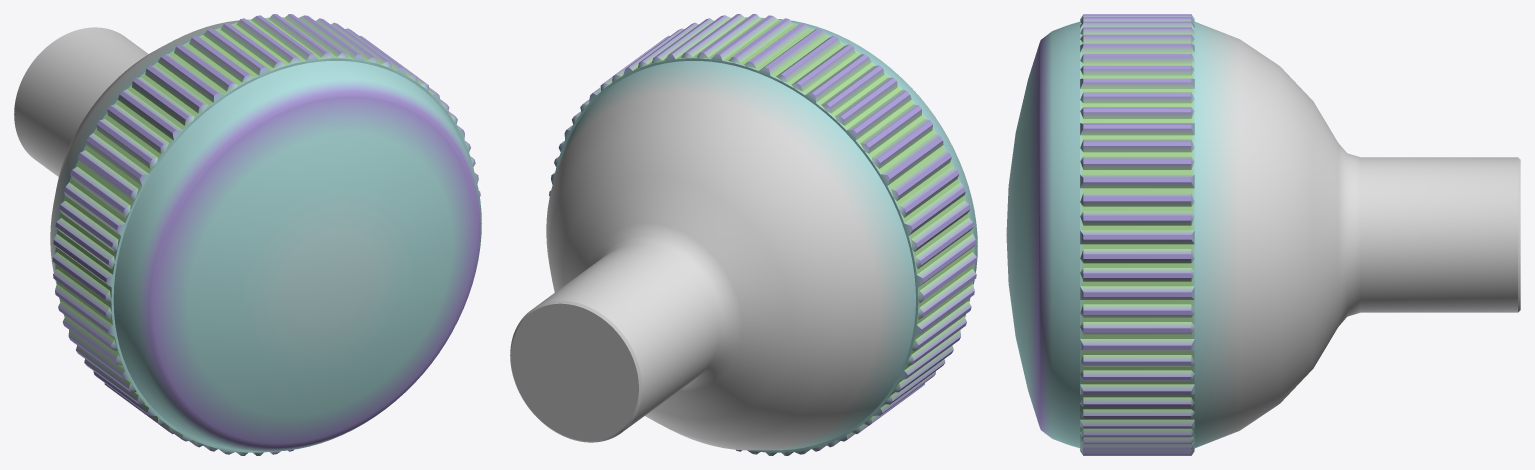
The model's file is Kit_Lock_Knob.fbx.
3 views of the same model, side by side, from view 1: azimuth 30°, elevation 25°; view 2: azimuth 150°, elevation 25°; view 3: azimuth 270°, elevation 25° (orthographic).
Visible parts, largest first — view 1: Kit_Lock_Knob_LOD0; view 2: Kit_Lock_Knob_LOD0; view 3: Kit_Lock_Knob_LOD0.
Boxes of the visible parts, x1,y1,x2,y2 form: Kit_Lock_Knob_LOD0: [14, 14, 481, 455]; Kit_Lock_Knob_LOD0: [510, 14, 977, 455]; Kit_Lock_Knob_LOD0: [1006, 14, 1520, 455].
Size of what is drawn, in the model's own units: 0.054 by 0.054 by 0.0628.
